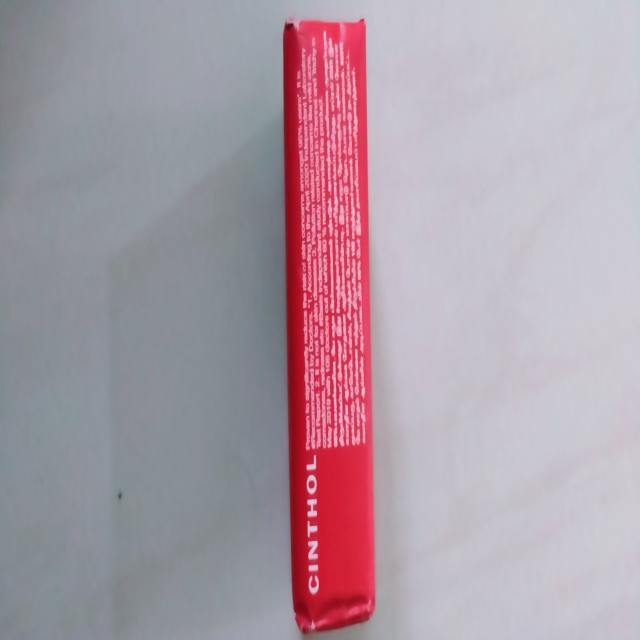soap: (279, 20, 376, 620)
